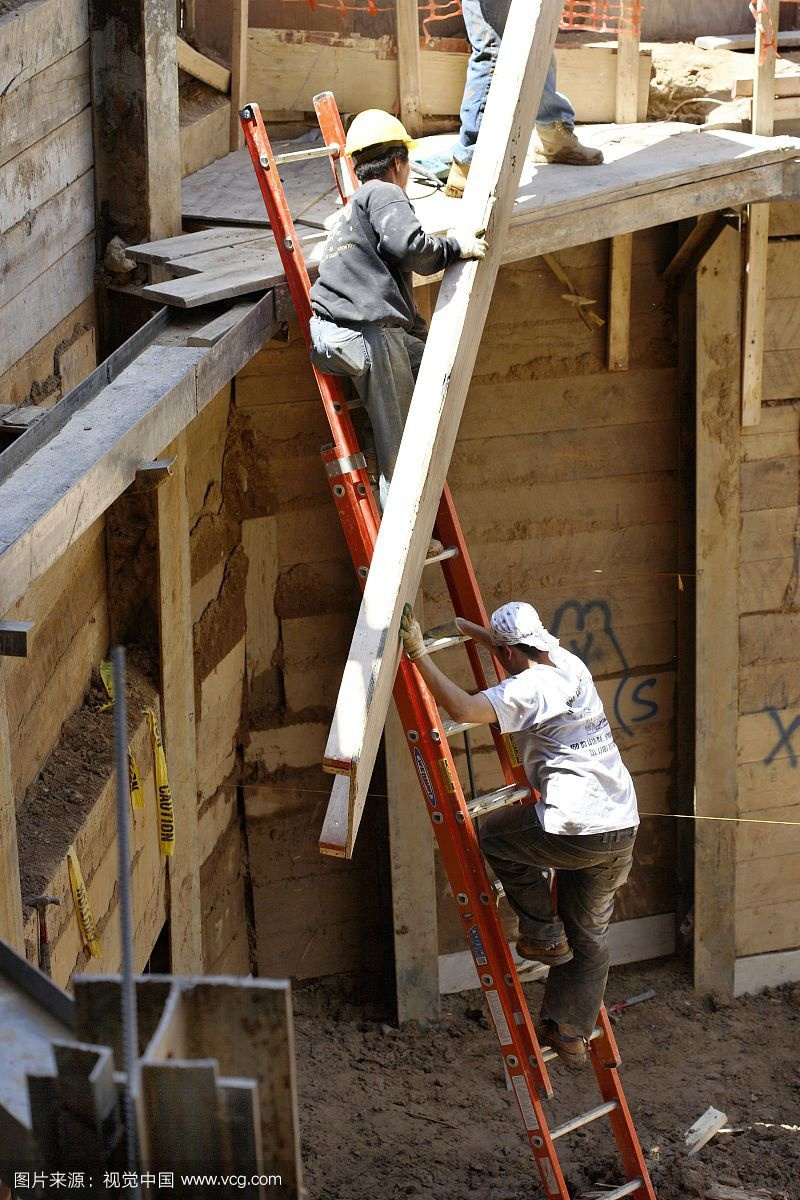none: (486, 597, 546, 676)
yellow: (337, 103, 419, 199)
